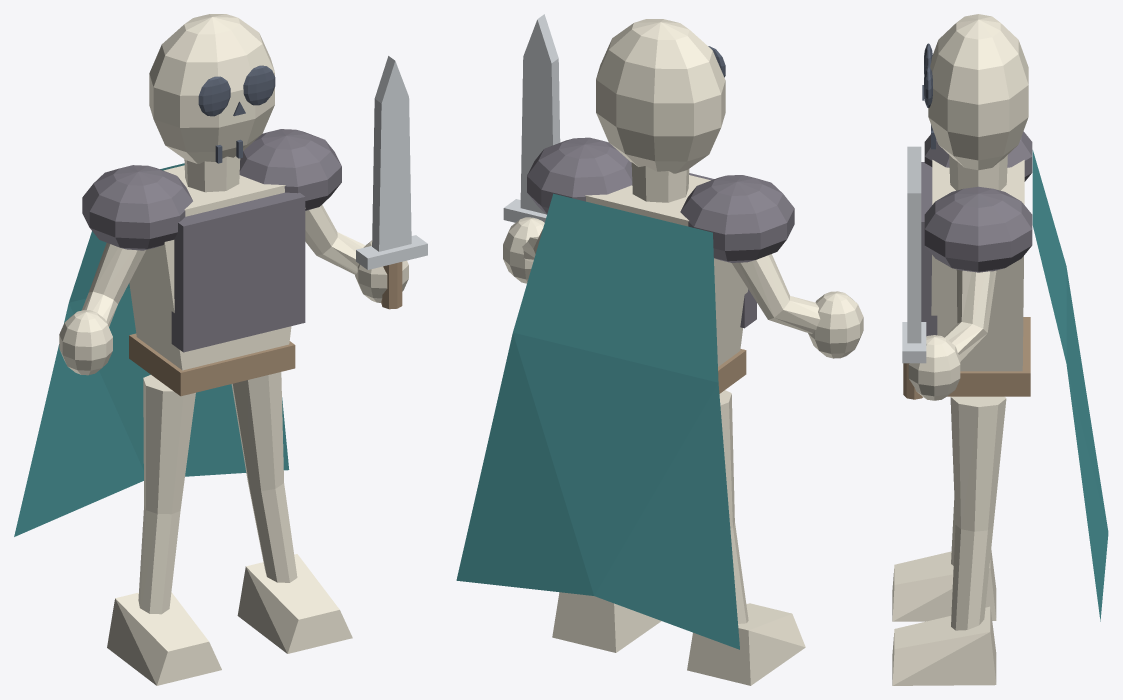
The model's file is undead-knight.glb.
3 views of the same model, side by side, from view 1: azimuth 30°, elevation 25°; view 2: azimuth 150°, elevation 25°; view 3: azimuth 270°, elevation 25° (orthographic). The views are drawn at different scales.
Visible parts, largest first — view 1: cape, breastplate, head, leg_-1, torso, leg_1, shoulder_plate_-1, foot_1, foot_-1, sword_blade, shoulder_plate_1, belt (+9 smaller); view 2: cape, head, shoulder_plate_-1, foot_-1, shoulder_plate_1, sword_blade, torso, foot_1, arm_-1, hand_-1, leg_-1, neck (+2 smaller); view 3: head, leg_1, cape, shoulder_plate_1, torso, foot_1, foot_-1, sword_blade, arm_1, hand_1, belt, breastplate (+4 smaller).
Part boxes in pixels (box(x1,y1,x2,y2)): cape: box(14, 163, 289, 536); breastplate: box(171, 192, 305, 352); head: box(149, 14, 274, 163); leg_-1: box(138, 375, 195, 614); torso: box(129, 165, 305, 370); leg_1: box(231, 372, 297, 582); shoulder_plate_-1: box(82, 165, 192, 250); foot_1: box(237, 554, 352, 653); foot_-1: box(107, 592, 221, 685); sword_blade: box(372, 56, 411, 251); shoulder_plate_1: box(239, 129, 341, 210); belt: box(129, 333, 295, 396); cape: box(456, 193, 739, 649); head: box(596, 19, 725, 173); shoulder_plate_-1: box(680, 175, 794, 262); foot_-1: box(687, 603, 805, 685); shoulder_plate_1: box(527, 137, 632, 214); sword_blade: box(520, 14, 560, 214); torso: box(585, 175, 747, 366); foot_1: box(552, 592, 661, 652); arm_-1: box(732, 254, 820, 333); hand_-1: box(808, 291, 863, 358); leg_-1: box(719, 390, 748, 623); neck: box(631, 162, 689, 202); head: box(928, 14, 1028, 170); leg_1: box(950, 396, 1006, 630); cape: box(1032, 150, 1108, 621); shoulder_plate_1: box(924, 186, 1032, 272); torso: box(931, 160, 1024, 371); foot_1: box(892, 606, 996, 685); foot_-1: box(892, 550, 996, 621); sword_blade: box(907, 146, 921, 343); arm_1: box(944, 269, 996, 361); hand_1: box(908, 335, 960, 400); belt: box(947, 317, 1030, 396); breastplate: box(921, 162, 937, 336).
Bounding box in the file's own units: 1.07 × 1.8 × 0.5701.
